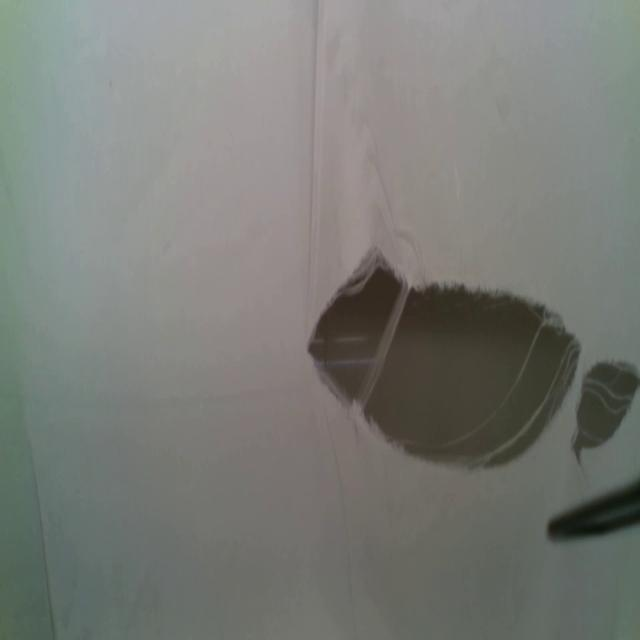crease: (28, 443, 56, 640), (307, 0, 326, 288)
hole: (307, 242, 579, 478), (573, 358, 640, 462)
